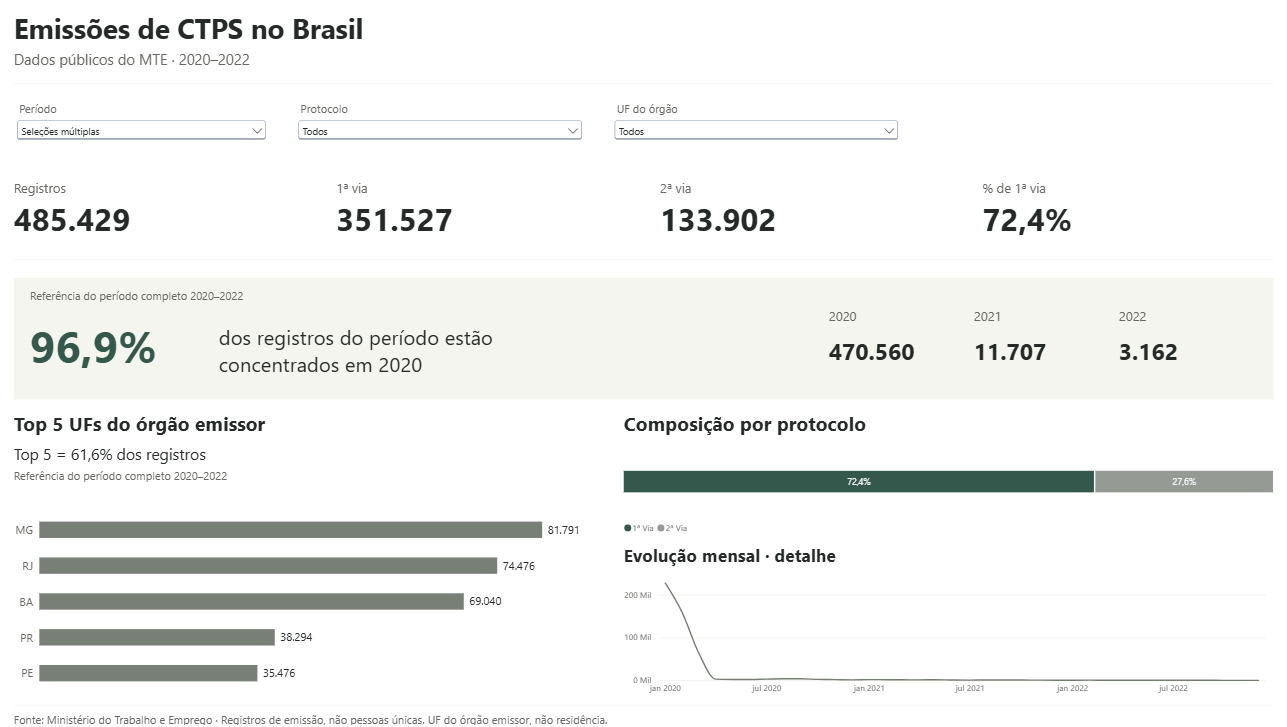

What the dashboard file says about the page in this screenshot:
{"tool":"powerbi","page":{"name":"Visão Geral","canvas":[1920,1080],"ordinal":0},"visuals":[{"type":"shape","box":[48,419,1824,176],"z":0},{"type":"shape","box":[48,137,1824,1],"z":1000},{"type":"shape","box":[48,393,1824,1],"z":2000},{"type":"shape","box":[48,1038,1824,1],"z":3000},{"type":"textbox","box":[932,804,940,40],"z":4000},{"type":"textbox","box":[1228,461,185,32],"z":5000},{"type":"textbox","box":[1438,461,185,32],"z":6000},{"type":"textbox","box":[48,30,1110,62],"z":7000},{"type":"textbox","box":[48,88,1000,38],"z":8000},{"type":"textbox","box":[1648,461,185,32],"z":9000},{"type":"textbox","box":[48,612,820,43],"z":10000},{"type":"textbox","box":[1438,503,185,53],"z":11000},{"type":"textbox","box":[48,695,820,29],"z":12000},{"type":"textbox","box":[346,485,822,85],"z":13000},{"type":"textbox","box":[72,435,1100,29],"z":14000},{"type":"textbox","box":[72,475,266,89],"z":15000},{"type":"textbox","box":[48,1047,1824,27],"z":16000},{"type":"textbox","box":[48,659,820,35],"z":17000},{"type":"textbox","box":[932,612,940,43],"z":18000},{"type":"textbox","box":[1648,503,185,53],"z":19000},{"type":"textbox","box":[1228,503,185,53],"z":20000},{"type":"actionButton","box":[1592,48,135,48],"z":21000},{"type":"actionButton","box":[1292,48,160,48],"z":22000},{"type":"actionButton","box":[1747,48,125,48],"z":23000},{"type":"actionButton","box":[1472,48,100,48],"z":24000},{"type":"slicer","fields":{"Values":["Calendario.Ano"]},"box":[48,163,370,72],"z":26000},{"type":"slicer","fields":{"Values":["ctps_emissoes.Tipo Protocolo"]},"box":[456,163,420,72],"z":27000},{"type":"slicer","fields":{"Values":["ctps_emissoes.Sigla UF Órgão"]},"box":[914,163,420,72],"z":28000},{"type":"cardVisual","fields":{"Data":["ctps_emissoes.Primeira via"]},"box":[516,265,420,110],"z":29000},{"type":"cardVisual","fields":{"Data":["ctps_emissoes.Registros publicados"]},"box":[48,265,420,110],"z":30000},{"type":"cardVisual","fields":{"Data":["ctps_emissoes.Segunda via"]},"box":[984,265,420,110],"z":31000},{"type":"cardVisual","fields":{"Data":["ctps_emissoes.Percentual primeira via"]},"box":[1452,265,420,110],"z":32000},{"type":"hundredPercentStackedBarChart","fields":{"Series":["ctps_emissoes.Tipo Protocolo"],"Y":["ctps_emissoes.Registros publicados"]},"box":[932,656,940,140],"z":33000},{"type":"barChart","fields":{"Category":["ctps_emissoes.Sigla UF Órgão"],"Y":["ctps_emissoes.Registros publicados"]},"box":[48,744,820,283],"z":34000},{"type":"lineChart","fields":{"Category":["Calendario.Date.Variation.Hierarquia de datas.Ano","Calendario.Date.Variation.Hierarquia de datas.Trimestre","Calendario.Date.Variation.Hierarquia de datas.Mês","Calendario.Date.Variation.Hierarquia de datas.Dia"],"Y":["ctps_emissoes.Registros publicados"]},"box":[932,852,940,175],"z":35000}]}

Visuals, with their boxes in screenshot pixels (x1, y1, x2, y2), scaled from the page's 1920x1080 canvas onto the 1287x727 screenshot:
shape: 32/282/1255/401
shape: 32/92/1255/93
textbox: 625/541/1255/568
textbox: 823/310/947/332
textbox: 964/310/1088/332
textbox: 32/20/776/62
textbox: 32/59/702/85
textbox: 1105/310/1229/332
textbox: 32/412/582/441
textbox: 964/339/1088/374
textbox: 32/468/582/487
textbox: 232/326/783/384
textbox: 48/293/786/312
textbox: 48/320/227/380
textbox: 32/705/1255/723
textbox: 32/444/582/467
textbox: 625/412/1255/441
textbox: 1105/339/1229/374
textbox: 823/339/947/374
actionButton: 1067/32/1158/65
actionButton: 866/32/973/65
actionButton: 1171/32/1255/65
actionButton: 987/32/1054/65
slicer - Calendario.Ano: 32/110/280/158
slicer - ctps_emissoes.Tipo Protocolo: 306/110/587/158
slicer - ctps_emissoes.Sigla UF Órgão: 613/110/894/158
cardVisual - ctps_emissoes.Primeira via: 346/178/627/252
cardVisual - ctps_emissoes.Registros publicados: 32/178/314/252
cardVisual - ctps_emissoes.Segunda via: 660/178/941/252
cardVisual - ctps_emissoes.Percentual primeira via: 973/178/1255/252
hundredPercentStackedBarChart - ctps_emissoes.Tipo Protocolo x ctps_emissoes.Registros publicados: 625/442/1255/536
barChart - ctps_emissoes.Sigla UF Órgão x ctps_emissoes.Registros publicados: 32/501/582/691
lineChart - Calendario.Date.Variation.Hierarquia de datas.Ano x Calendario.Date.Variation.Hierarquia de datas.Trimestre: 625/574/1255/691
